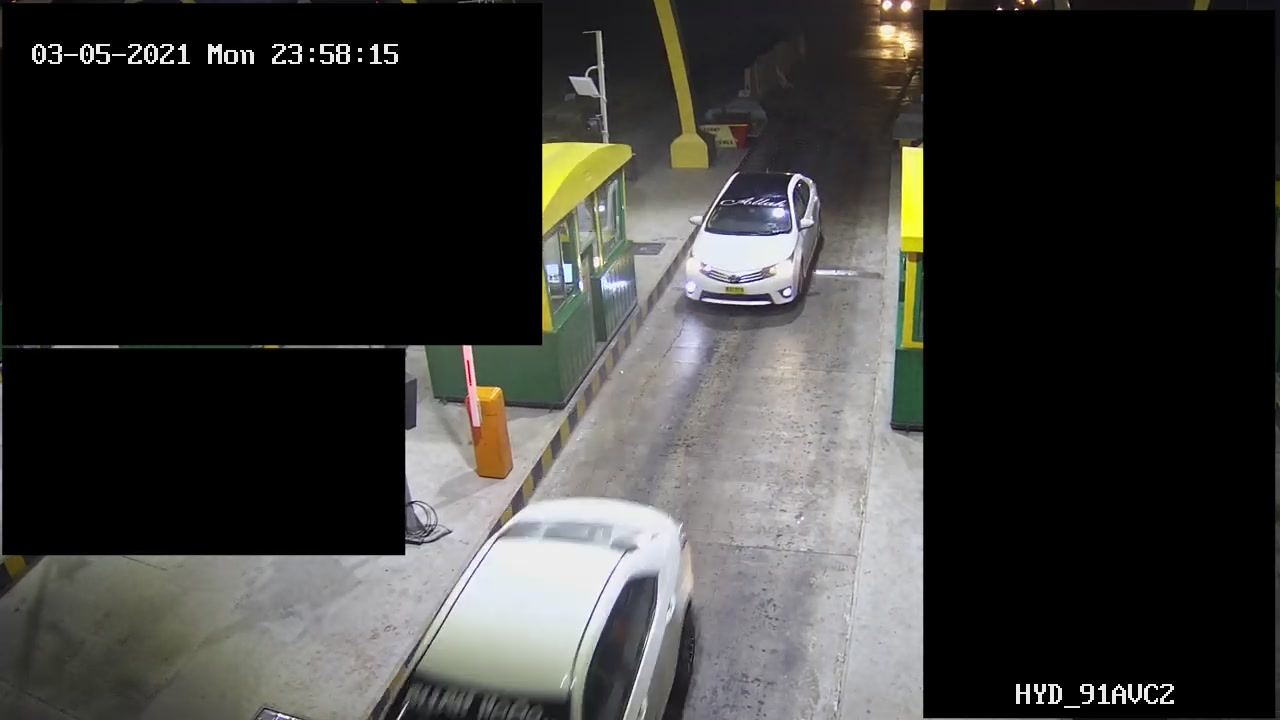F1: (668, 154, 839, 329)
